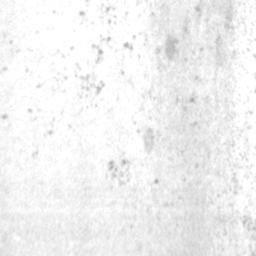Pitted surface: (123, 0, 256, 256), (64, 7, 128, 108), (106, 152, 136, 191), (134, 117, 161, 154)
